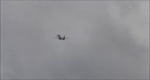maybay_muctieu: (53, 32, 68, 44)
